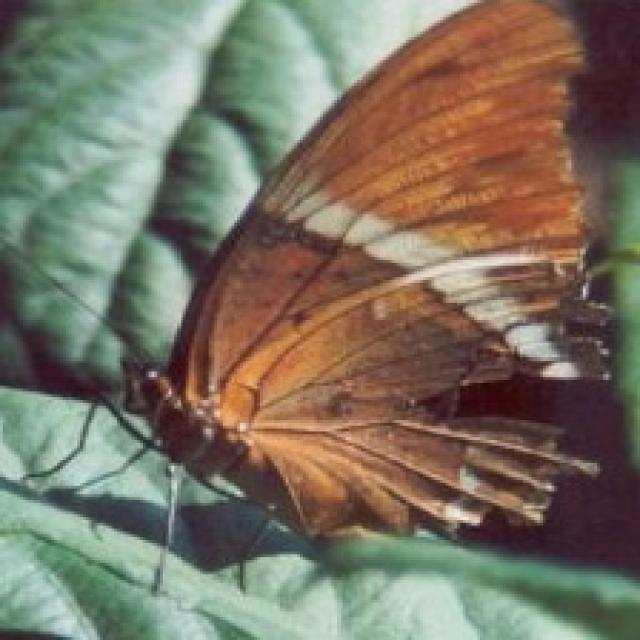butterfly: (0, 0, 614, 594)
